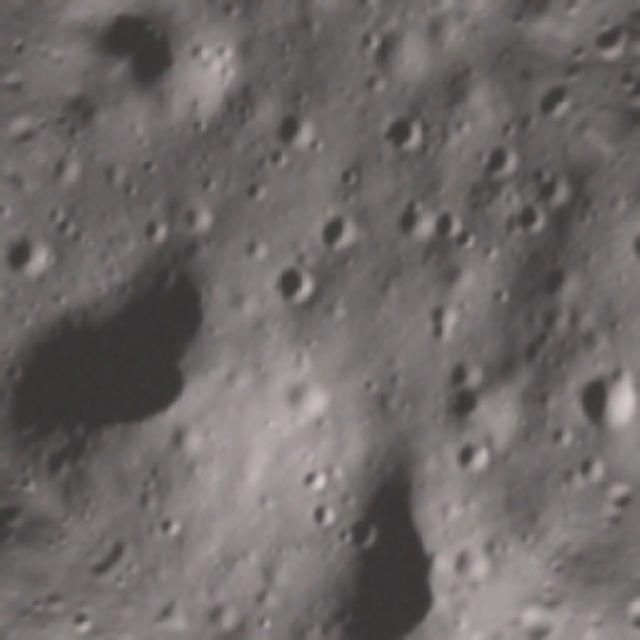crater: (0, 215, 266, 528), (260, 457, 495, 640), (102, 8, 244, 149), (557, 344, 640, 454), (0, 218, 71, 304), (300, 202, 378, 280), (255, 249, 330, 325), (405, 287, 478, 359), (379, 190, 452, 262), (367, 96, 438, 167), (328, 500, 398, 569), (518, 153, 588, 222), (428, 369, 497, 438), (257, 98, 326, 167), (438, 528, 504, 594), (464, 128, 530, 194), (493, 190, 558, 255), (416, 198, 478, 260), (528, 254, 588, 315), (166, 188, 226, 248), (290, 490, 348, 548), (444, 431, 501, 489), (31, 198, 88, 254), (607, 205, 640, 289), (124, 206, 176, 257), (528, 296, 580, 347), (162, 418, 213, 469), (37, 147, 86, 196), (290, 459, 338, 507), (498, 104, 544, 150), (325, 158, 370, 202), (147, 508, 191, 552), (92, 154, 134, 197), (506, 329, 549, 371), (480, 273, 522, 315), (125, 483, 167, 525), (234, 173, 274, 213), (236, 228, 276, 268), (353, 68, 393, 108), (186, 167, 225, 205), (347, 22, 384, 58), (488, 115, 524, 152), (128, 146, 164, 182), (355, 368, 390, 403), (226, 98, 260, 132), (342, 0, 386, 22), (250, 608, 278, 635)
